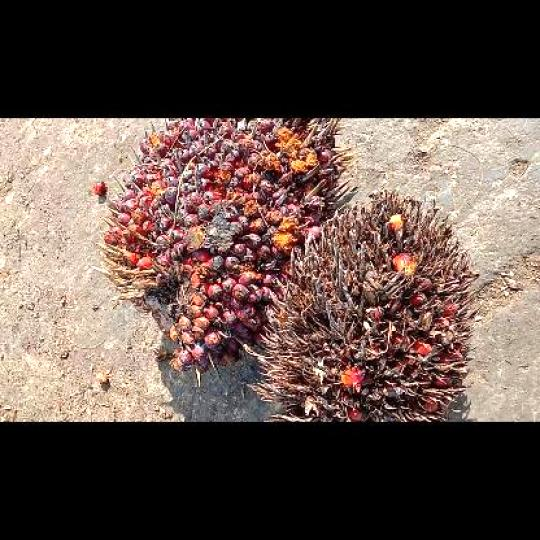masak: (91, 118, 353, 386)
terlalu masak: (252, 190, 478, 420)
